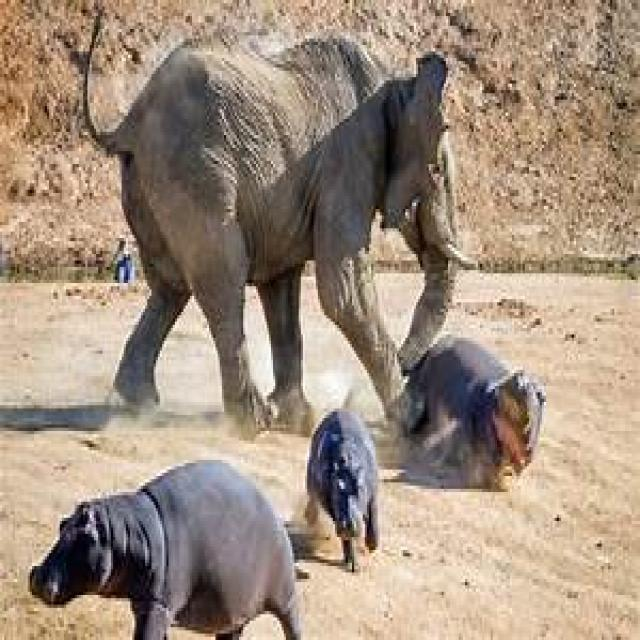elephant: (98, 39, 457, 437)
